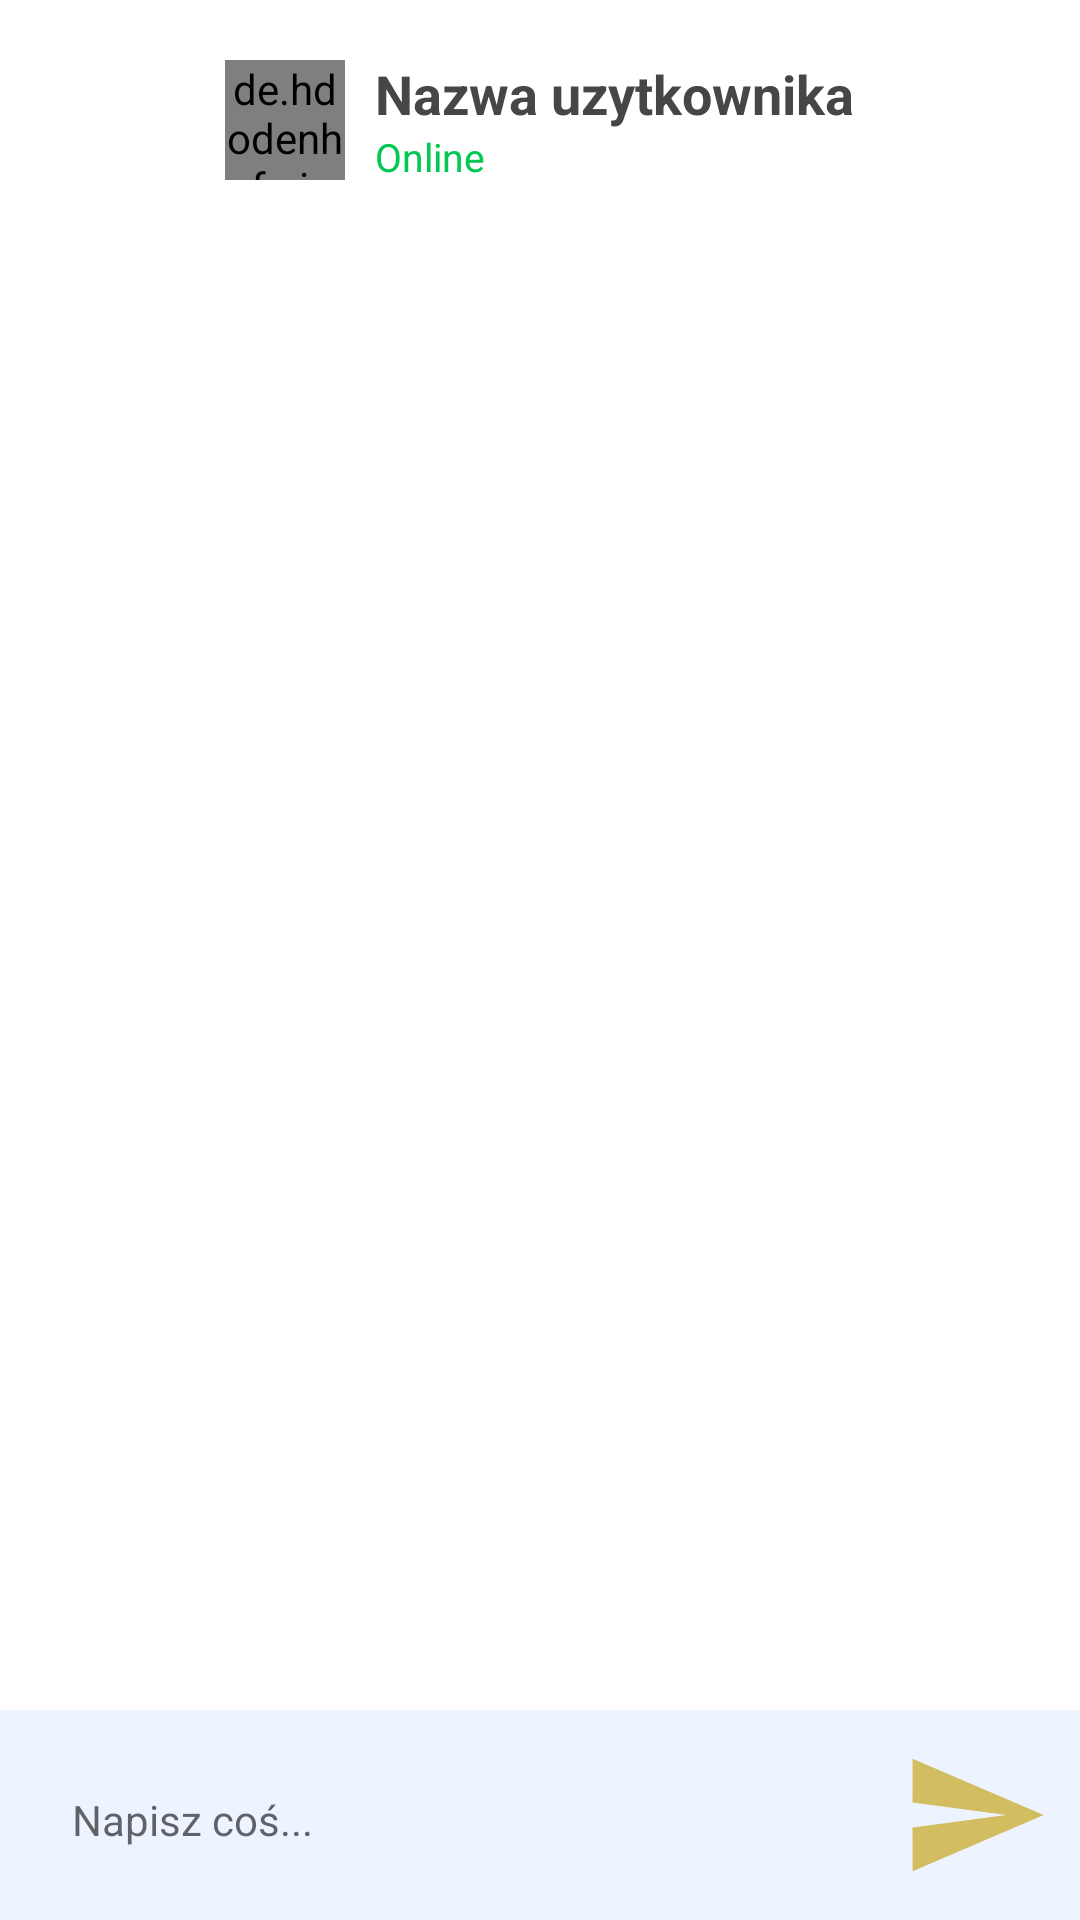

Point at icon controls on the screen. Image size 1080 × 1920, points as (x,y).
send: (977,1815)
